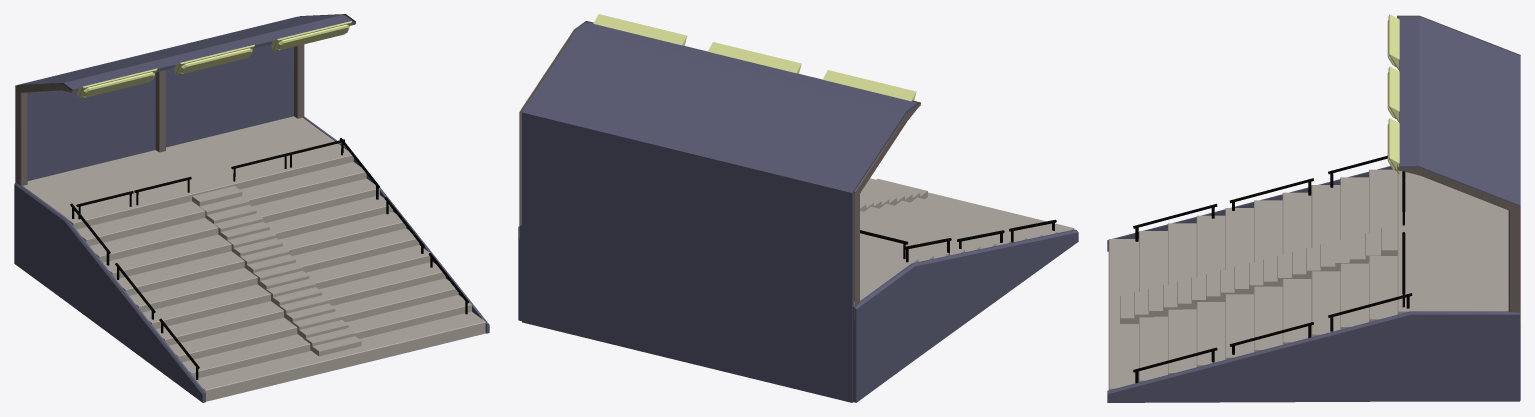
Rendered from MOD_CrowdStand.fbx.
The picture shows the model from 3 angles, left to right: view 1: azimuth 30°, elevation 25°; view 2: azimuth 150°, elevation 25°; view 3: azimuth 270°, elevation 25°; orthographic projection. The views are drawn at different scales.
Parts seen in each view (by area): view 1: MOD_CrowdStand_LOD0; view 2: MOD_CrowdStand_LOD0; view 3: MOD_CrowdStand_LOD0.
Part boxes in pixels (bbox=[...]): MOD_CrowdStand_LOD0: bbox=[14, 14, 489, 402]; MOD_CrowdStand_LOD0: bbox=[518, 14, 1078, 402]; MOD_CrowdStand_LOD0: bbox=[1107, 14, 1520, 402].
Bounding box in the file's own units: 1797 × 1316 × 2049.
